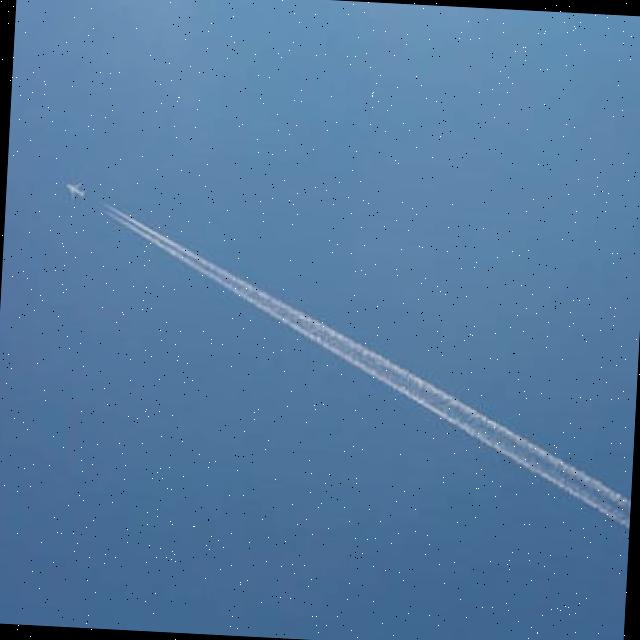Ct: (38, 86, 640, 602)
